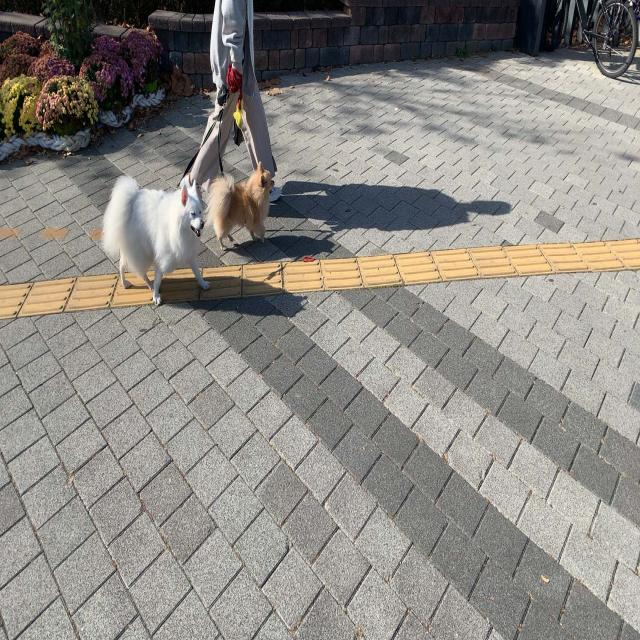Leashed_Dog: (101, 102, 239, 306), (208, 103, 274, 251)
